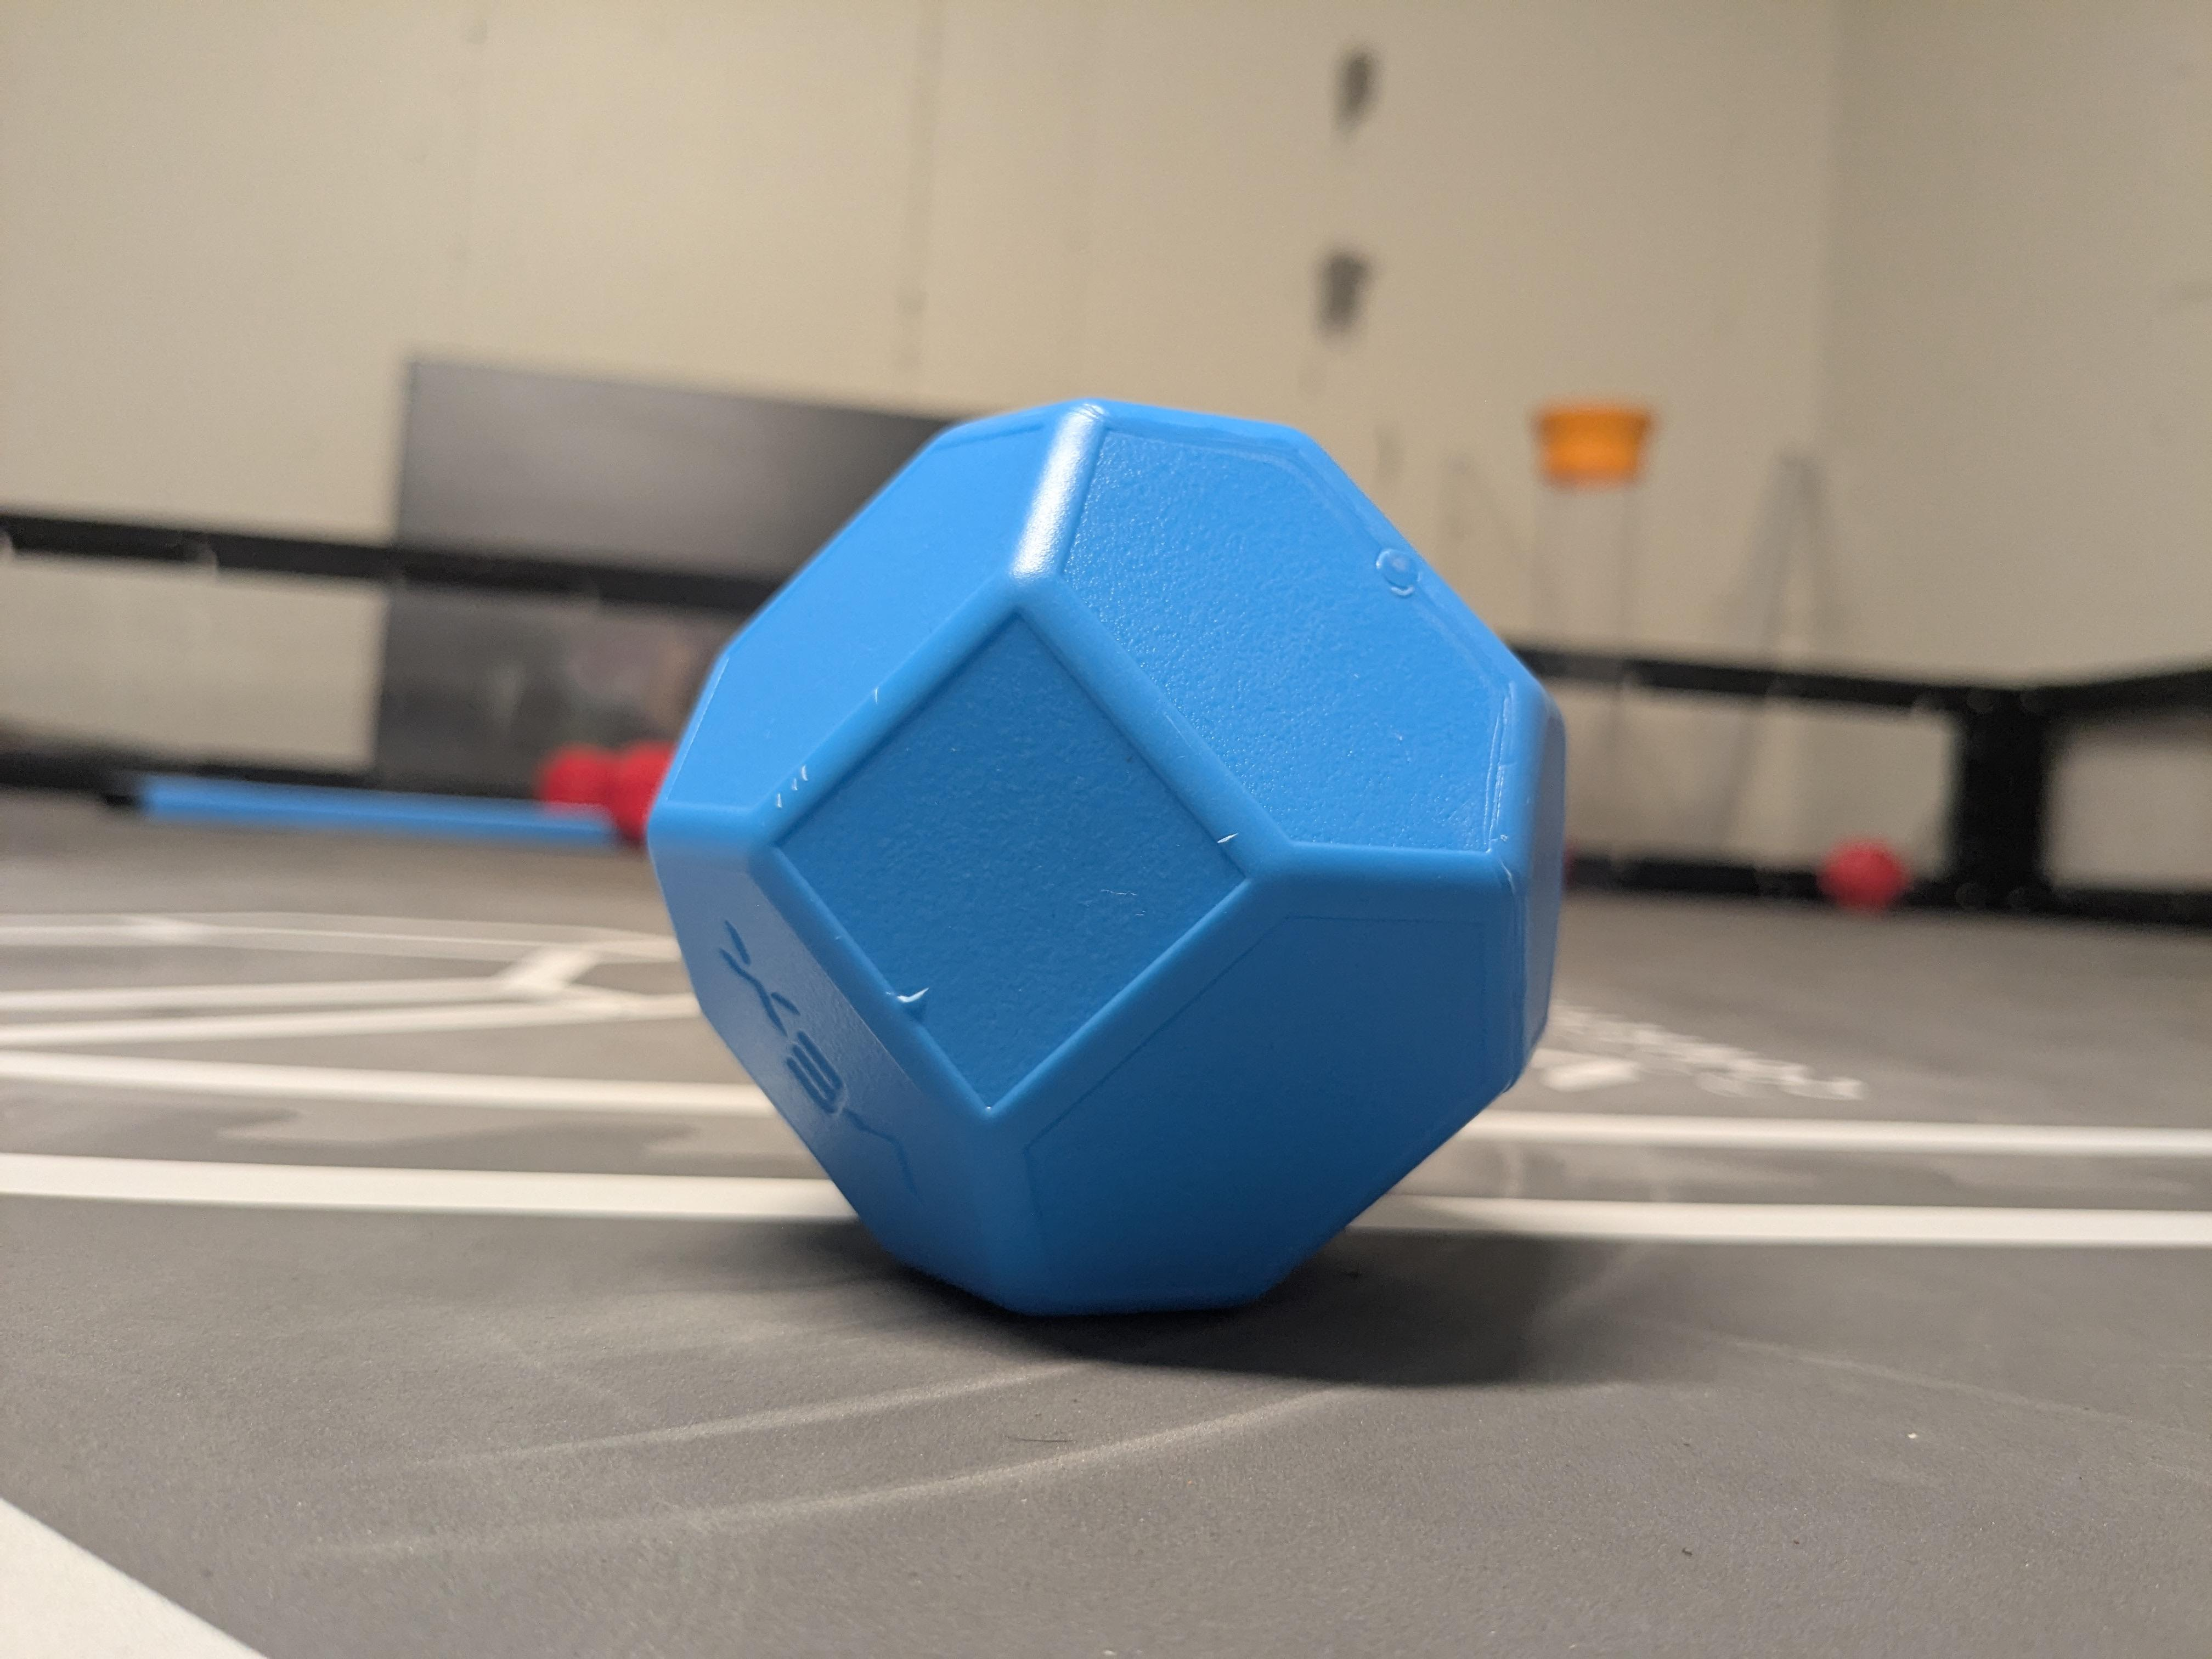Vex-Pieces-BLUE: (650, 401, 1564, 1312)
